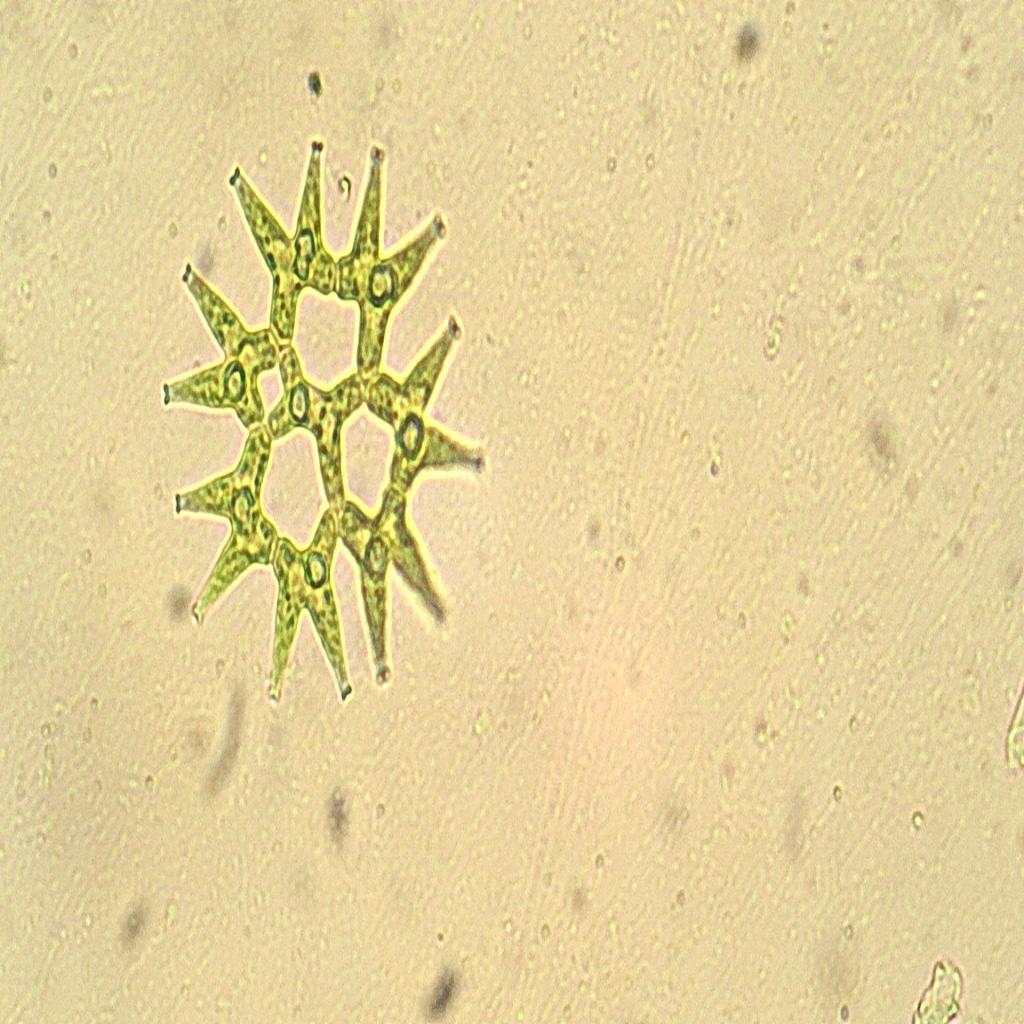Pediastrum_1T: (147, 130, 491, 716)
